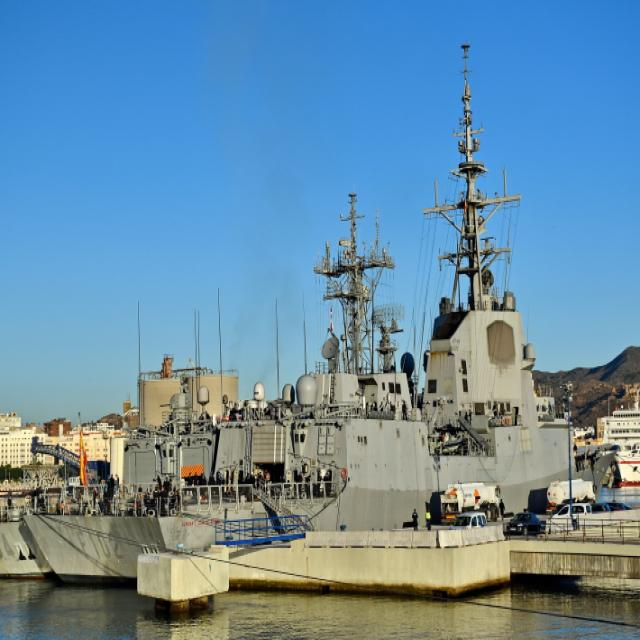Fragata: (19, 33, 616, 591)
